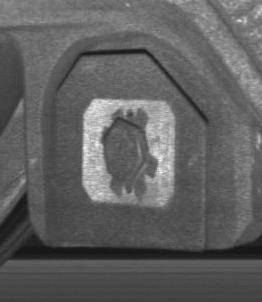Bolt: (102, 117, 150, 187)
